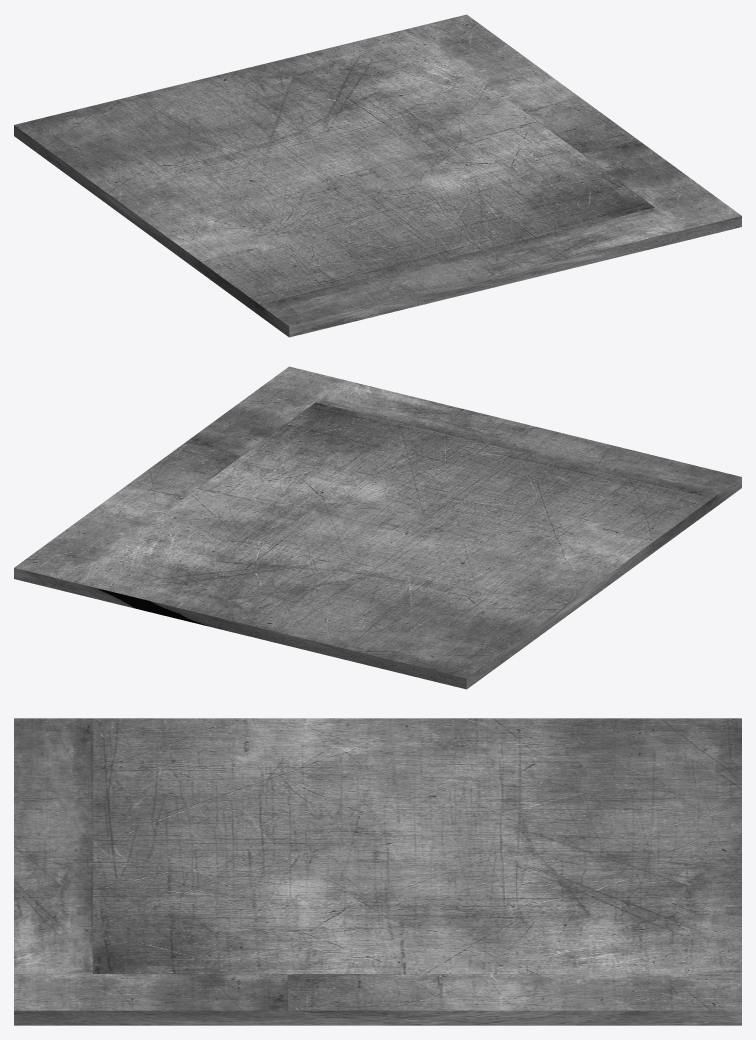
File: Floor.FBX
3 views of the same model, one above another, from view 1: azimuth 30°, elevation 25°; view 2: azimuth 150°, elevation 25°; view 3: azimuth 270°, elevation 25° (orthographic). The views are drawn at different scales.
Parts seen in each view (by area): view 1: Box; view 2: Box; view 3: Box.
Boxes of the visible parts, x1,y1,x2,y2 form: Box: [14, 14, 741, 337]; Box: [14, 366, 741, 689]; Box: [14, 718, 741, 1025].
Bounding box in the file's own units: 187 × 4.39 × 197.
